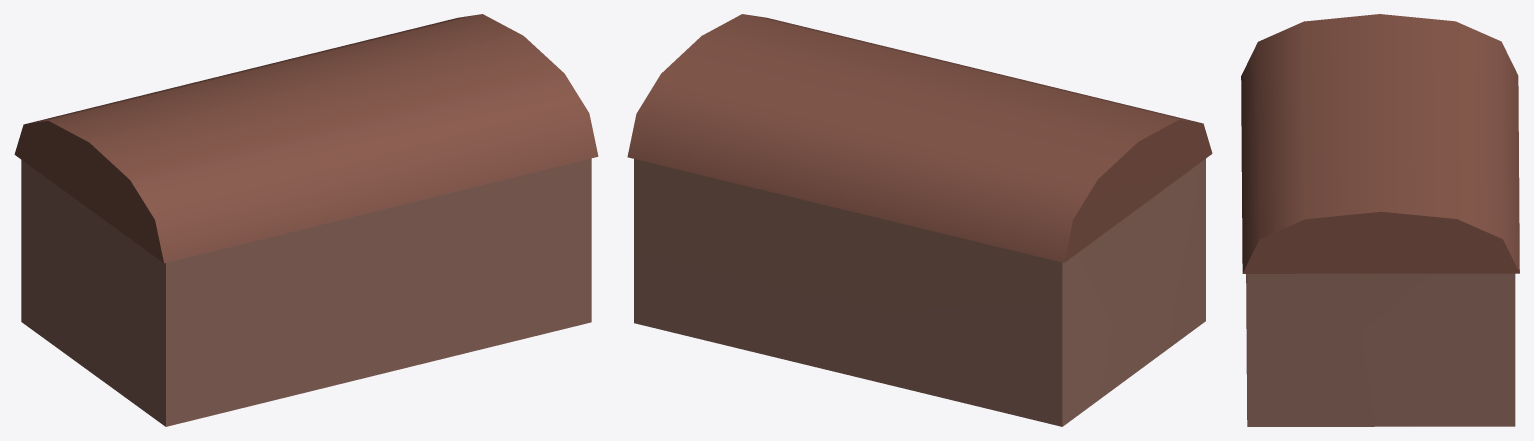
Rendered from prop_053.glb.
3 views of the same model, side by side, from view 1: azimuth 30°, elevation 25°; view 2: azimuth 150°, elevation 25°; view 3: azimuth 270°, elevation 25° (orthographic). The views are drawn at different scales.
Visible parts, largest first — view 1: prop_053; view 2: prop_053; view 3: prop_053.
Part boxes in pixels (x1,y1,x2,y2): prop_053: [14, 14, 598, 426]; prop_053: [627, 14, 1212, 426]; prop_053: [1241, 14, 1519, 426].
Size of the model in its own units: 0.2526 by 0.129 by 0.1502.
1 material, 1 textured.
